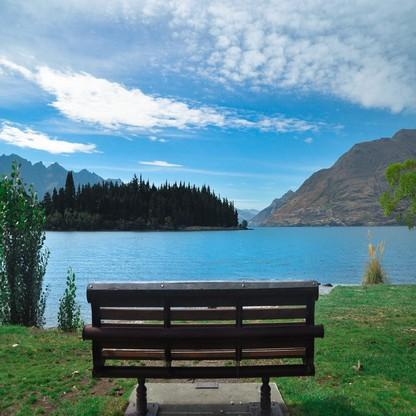obstacle: (73, 274, 337, 408)
